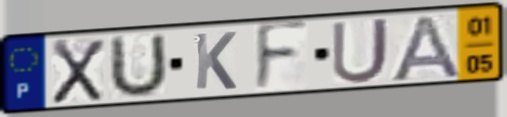A: (386, 12, 464, 84)
F: (252, 17, 311, 96)
K: (192, 30, 239, 92)
U: (106, 31, 170, 102), (329, 15, 392, 86)
X: (49, 37, 108, 106)
